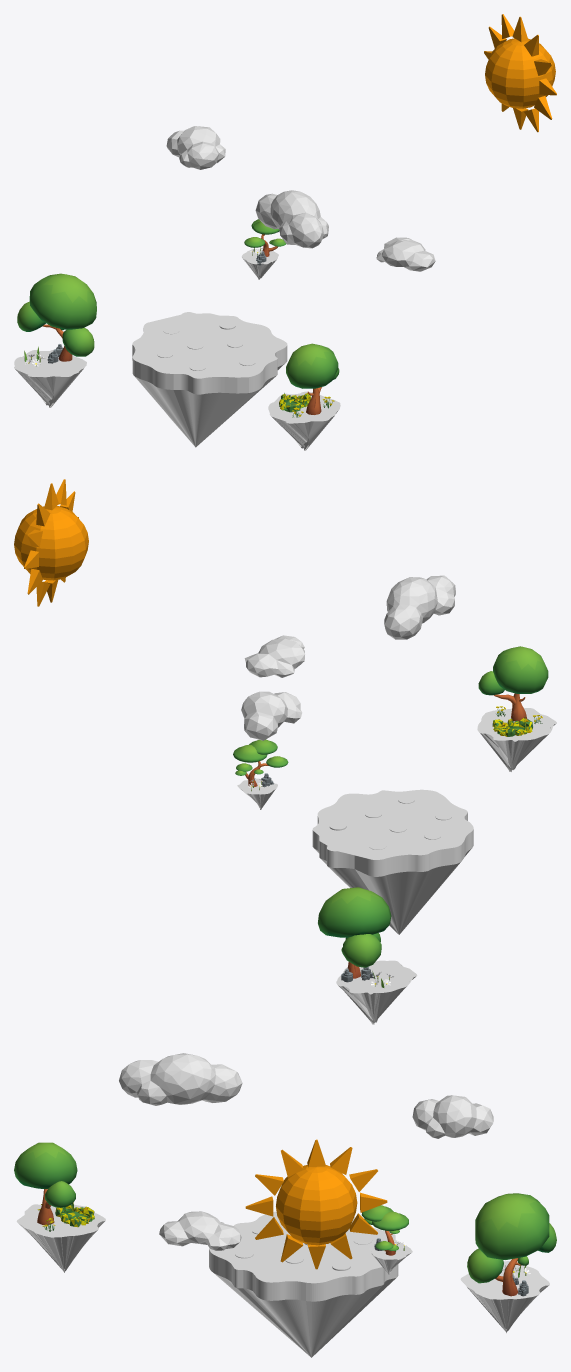
Rendered from Platform.fbx.
3 views of the same model, one above another, from view 1: azimuth 30°, elevation 25°; view 2: azimuth 150°, elevation 25°; view 3: azimuth 270°, elevation 25° (orthographic). The views are drawn at different scales.
Parts seen in each view (by area): view 1: Cylinder.037, Sun, Tree_1_C_Color1, Cloud_2, Tree_1_B_Color1, Cone, Cloud_3, Cone.003, Cloud_1, Tree_3_C_Color1, Cone.004; view 2: Cylinder.037, Sun, Tree_1_C_Color1, Cloud_2, Tree_1_B_Color1, Cone, Cone.003, Cloud_3, Cloud_1, Tree_3_C_Color1; view 3: Cylinder.037, Sun, Tree_1_C_Color1, Cloud_2, Tree_1_B_Color1, Cloud_3, Cone.003, Cone, Cloud_1, Tree_3_C_Color1, pond, Cone.004.
Part boxes in pixels (x1,y1,x2,y2): Cylinder.037: (132, 312, 287, 447); Sun: (484, 14, 556, 132); Tree_1_C_Color1: (17, 273, 96, 361); Cloud_2: (255, 190, 328, 248); Tree_1_B_Color1: (286, 343, 339, 414); Cone: (14, 350, 86, 407); Cloud_3: (166, 126, 225, 169); Cone.003: (268, 391, 340, 450); Cloud_1: (376, 237, 435, 271); Tree_3_C_Color1: (244, 219, 285, 256); Cone.004: (241, 249, 278, 279); Cylinder.037: (312, 789, 473, 934); Sun: (14, 479, 88, 606); Tree_1_C_Color1: (318, 887, 391, 978); Cloud_2: (384, 575, 455, 639); Tree_1_B_Color1: (478, 646, 548, 721); Cone: (336, 960, 417, 1024); Cone.003: (477, 708, 556, 771); Cloud_3: (241, 691, 302, 740); Cloud_1: (244, 635, 304, 677); Tree_3_C_Color1: (233, 739, 288, 786); Cylinder.037: (209, 1211, 398, 1357); Sun: (245, 1139, 387, 1269); Tree_1_C_Color1: (467, 1193, 556, 1296); Cloud_2: (119, 1053, 242, 1105); Tree_1_B_Color1: (14, 1142, 77, 1224); Cloud_3: (412, 1095, 493, 1138); Cone.003: (16, 1204, 105, 1272); Cone: (460, 1261, 549, 1332); Cloud_1: (159, 1211, 241, 1250); Tree_3_C_Color1: (361, 1205, 408, 1255); pond: (55, 1202, 94, 1227); Cone.004: (368, 1242, 412, 1275).
Bounding box in the file's own units: 2925 × 2208 × 2650.
Materials: 24 (9 with a texture image).
